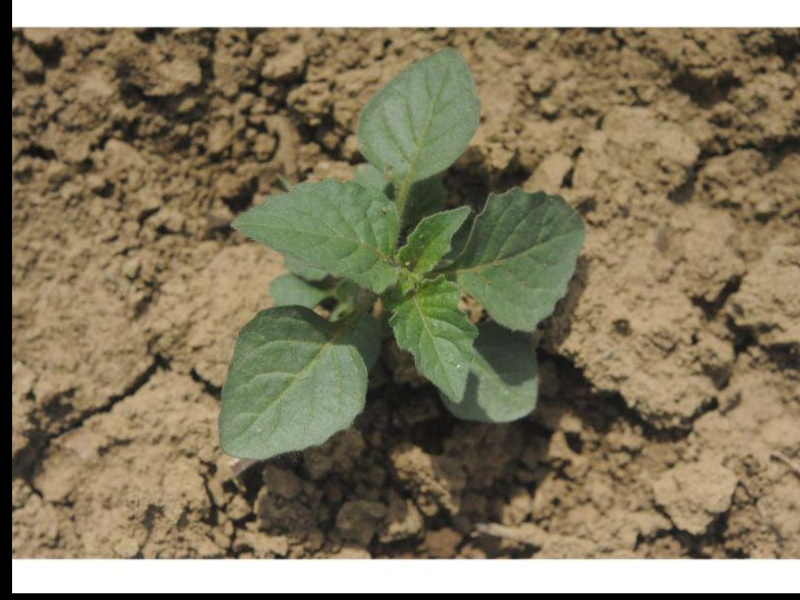nightshade: (218, 46, 584, 459)
